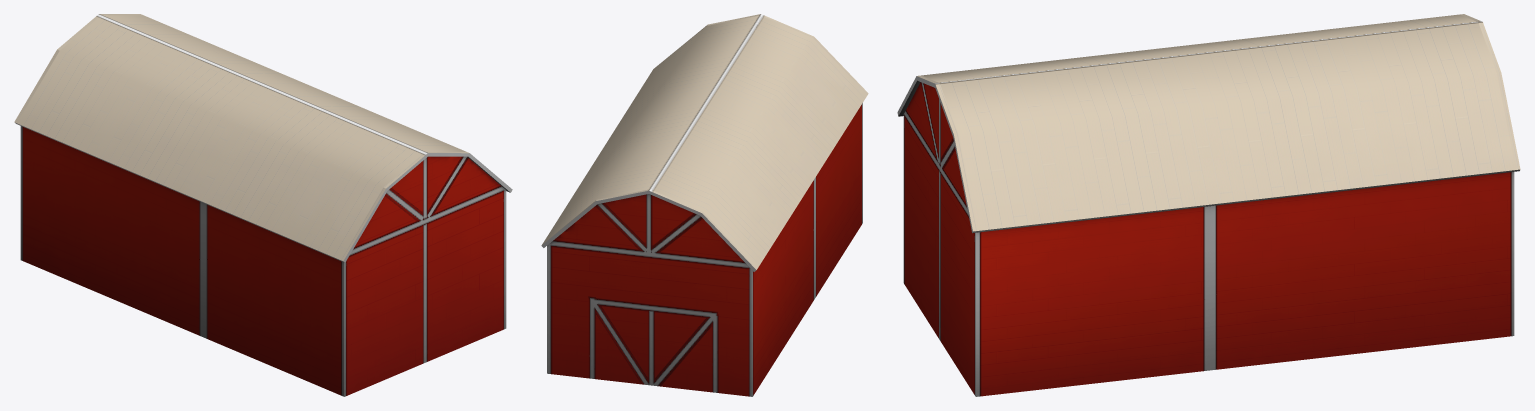
Rendered from Barn2.fbx.
3 views of the same model, side by side, from view 1: azimuth 30°, elevation 25°; view 2: azimuth 150°, elevation 25°; view 3: azimuth 270°, elevation 25° (orthographic). The views are drawn at different scales.
Parts seen in each view (by area): view 1: Barn4_69; view 2: Barn4_69; view 3: Barn4_69.
Boxes of the visible parts, x1,y1,x2,y2 form: Barn4_69: (14,14,512,396); Barn4_69: (541,14,868,396); Barn4_69: (897,14,1520,396).
Bounding box in the file's own units: 750 × 1090 × 496.
Materials: 1 (1 with a texture image).
